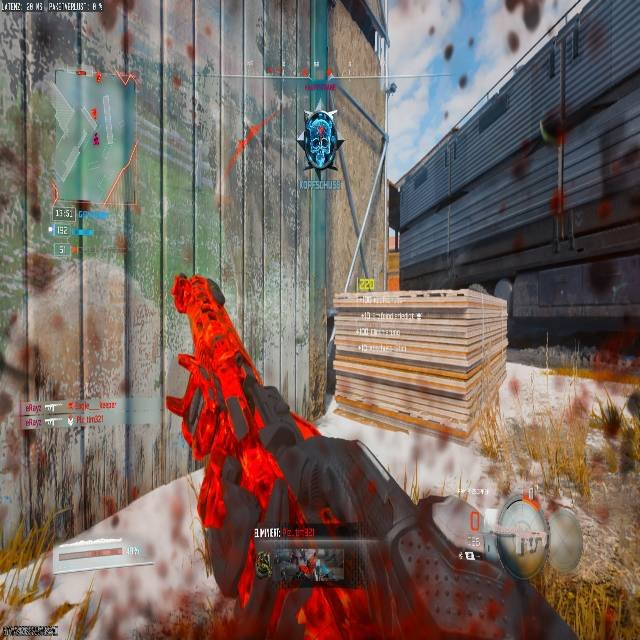player: (387, 81, 397, 96)
